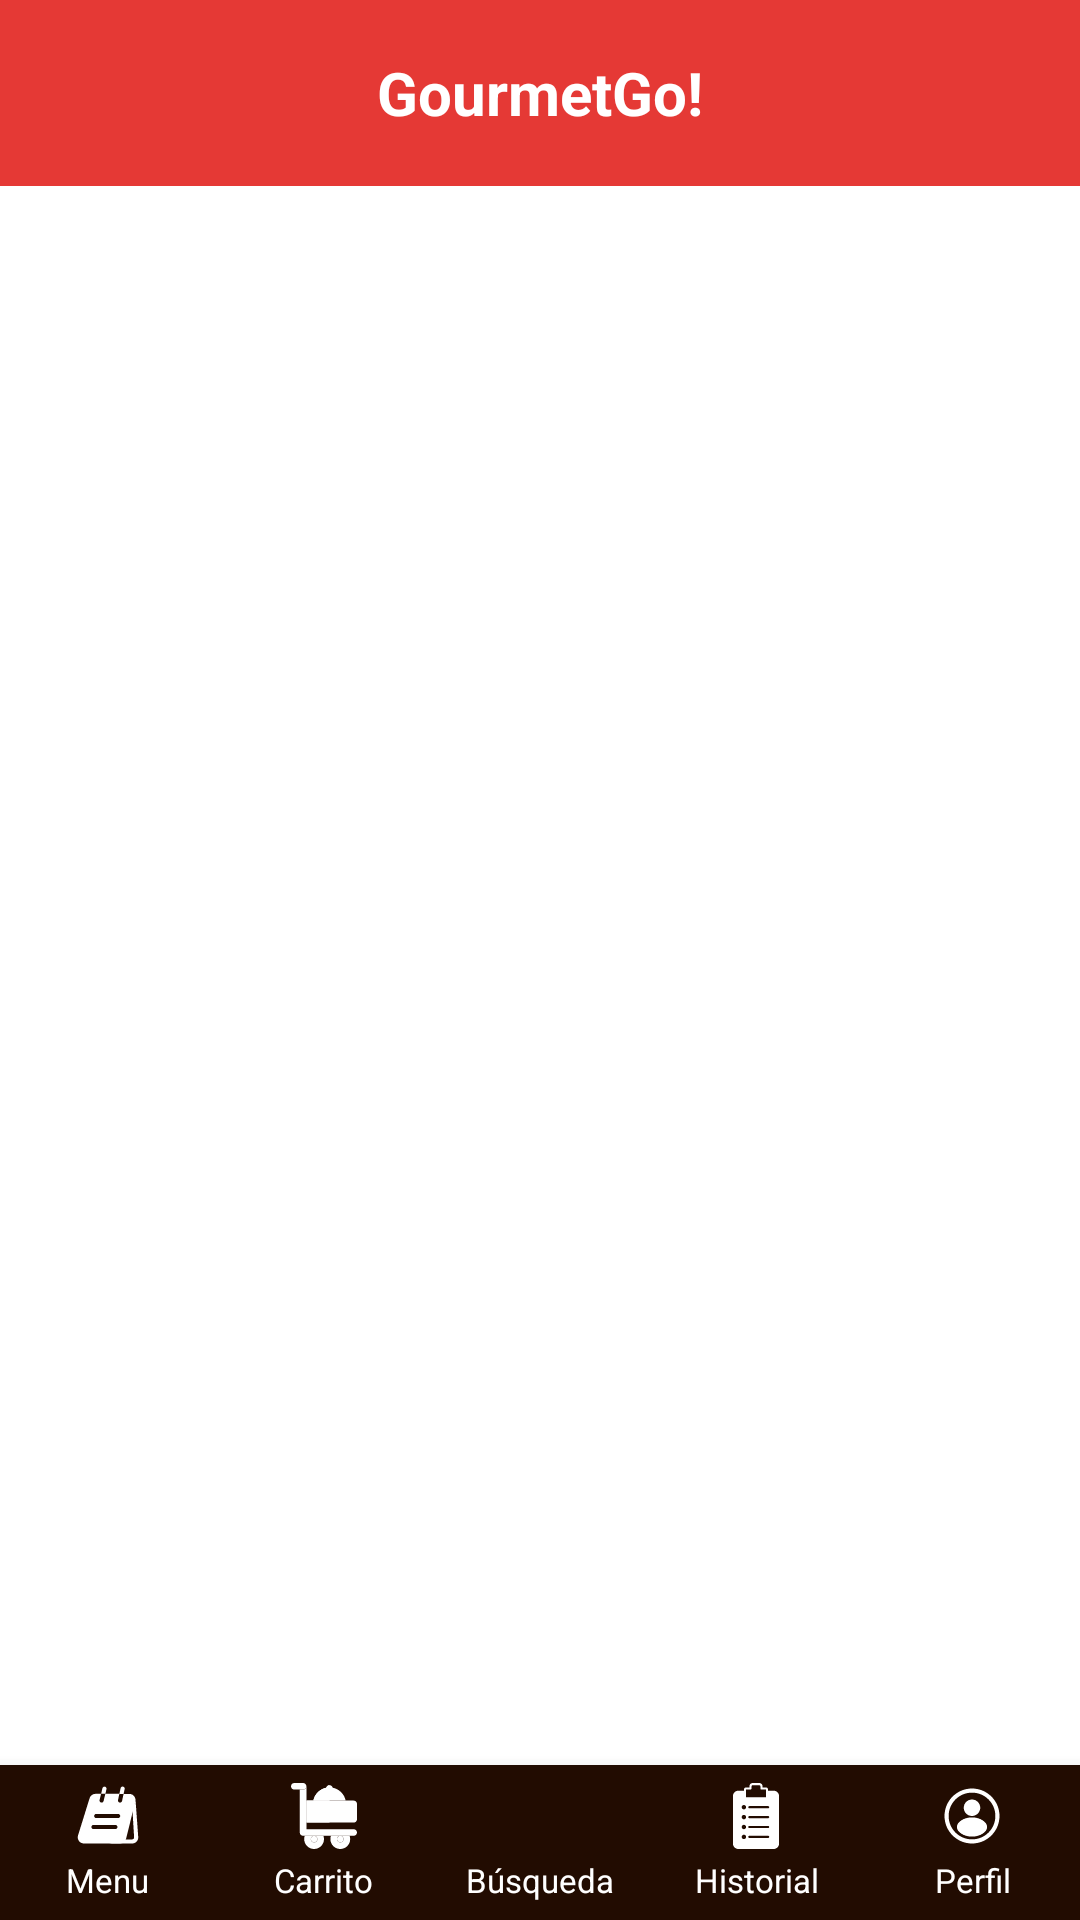

Named icons in this screenshot (1080px×1920px) and their centers, point (x, y):
clipboard: point (756, 1816)
user: point (972, 1816)
